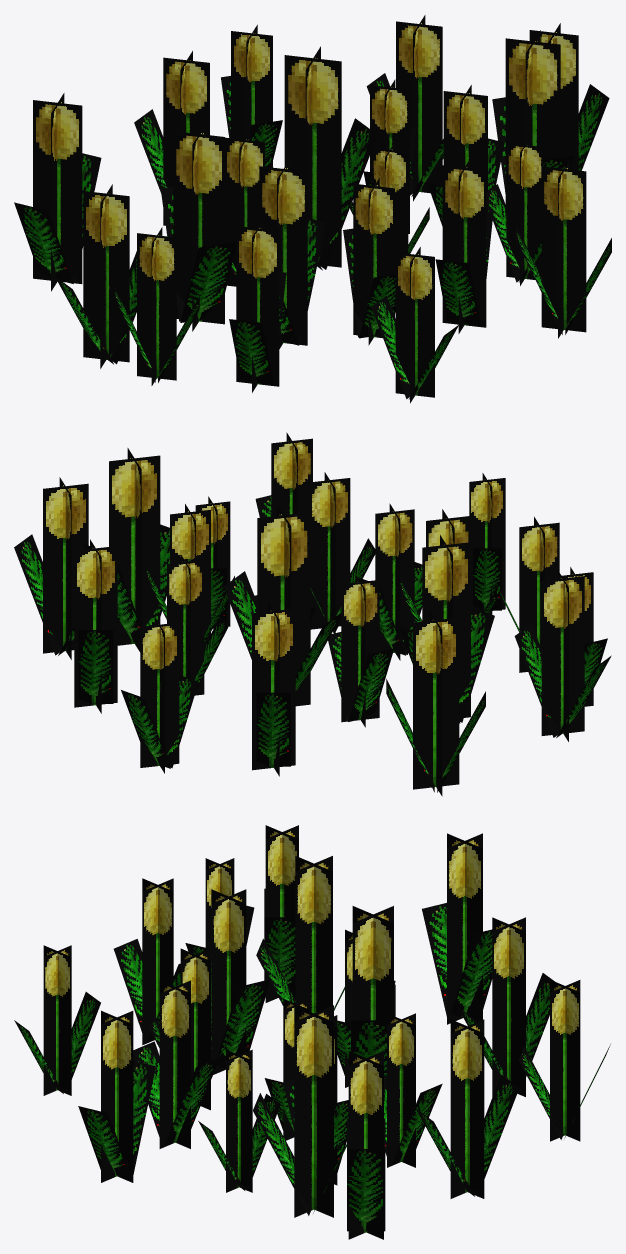
File: tulips.obj
3 views of the same model, one above another, from view 1: azimuth 30°, elevation 25°; view 2: azimuth 150°, elevation 25°; view 3: azimuth 270°, elevation 25° (orthographic). The views are drawn at different scales.
Parts seen in each view (by area): view 1: obj8; view 2: obj8; view 3: obj8.
Boxes of the visible parts, x1,y1,x2,y2 form: obj8: [14, 15, 611, 403]; obj8: [14, 432, 611, 796]; obj8: [14, 825, 610, 1239].
Bounding box in the file's own units: 14.69 × 5 × 13.31.
Materials: 1 (1 with a texture image).
